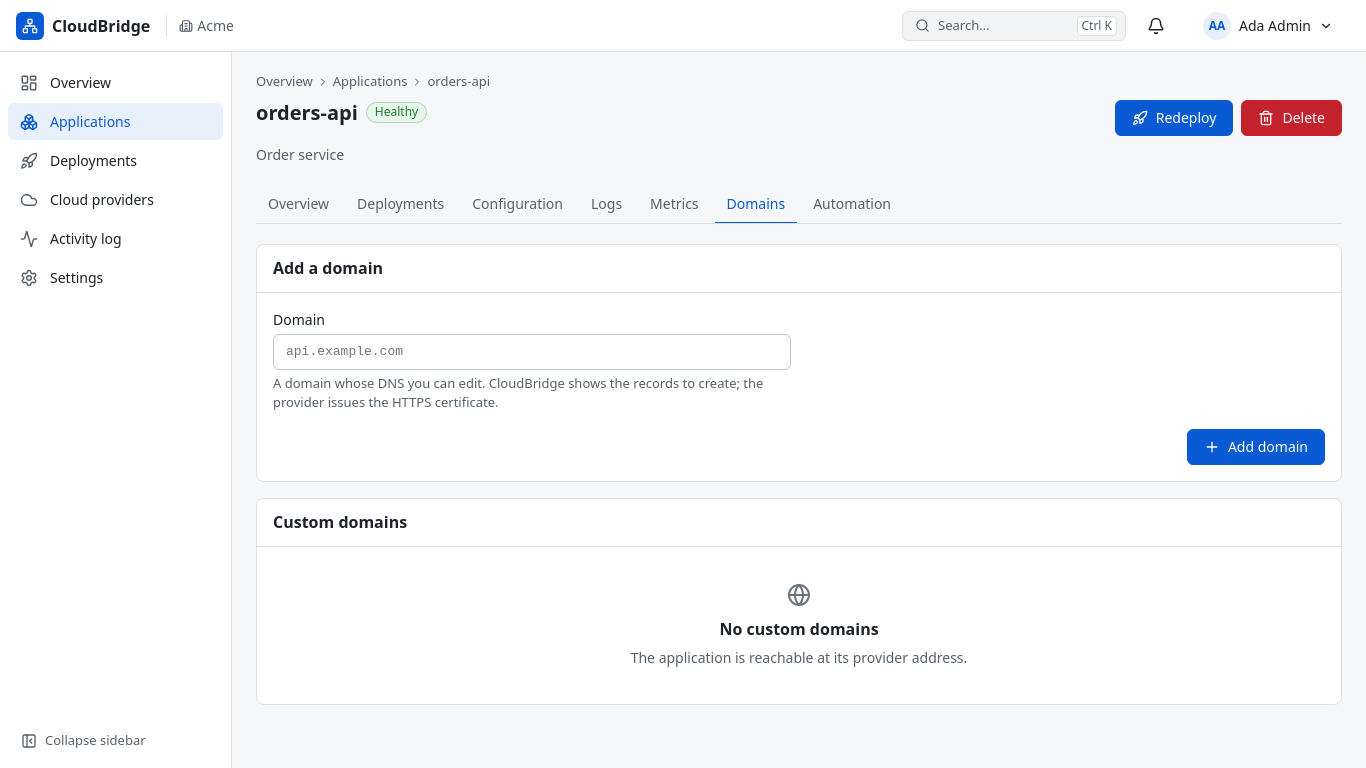
Test: custom domains › adds a domain and lists the DNS records to create
Type "not a domain" into the field labelled "Domain". click: (532, 352)
box: [273,334,791,370]
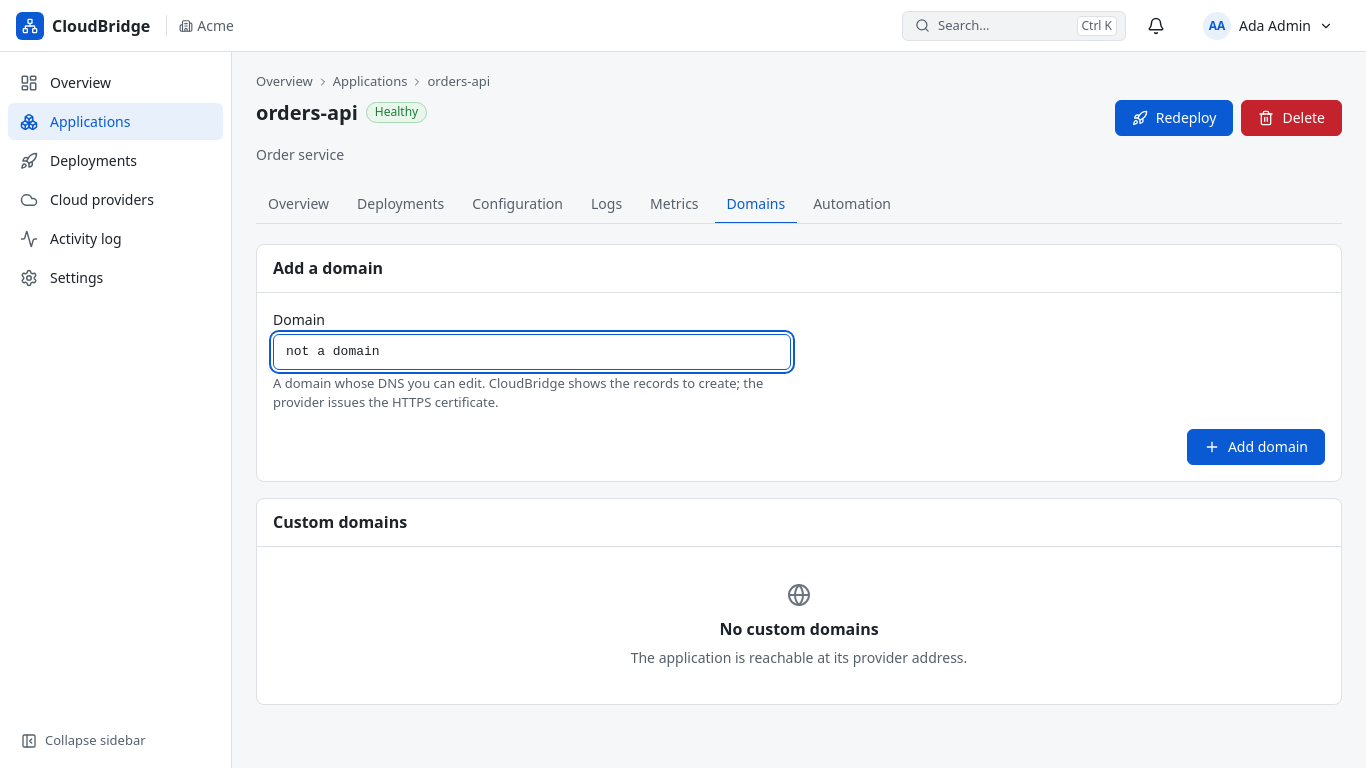
Click the button "Add domain". click: click(1256, 446)
box: [1187,428,1325,464]
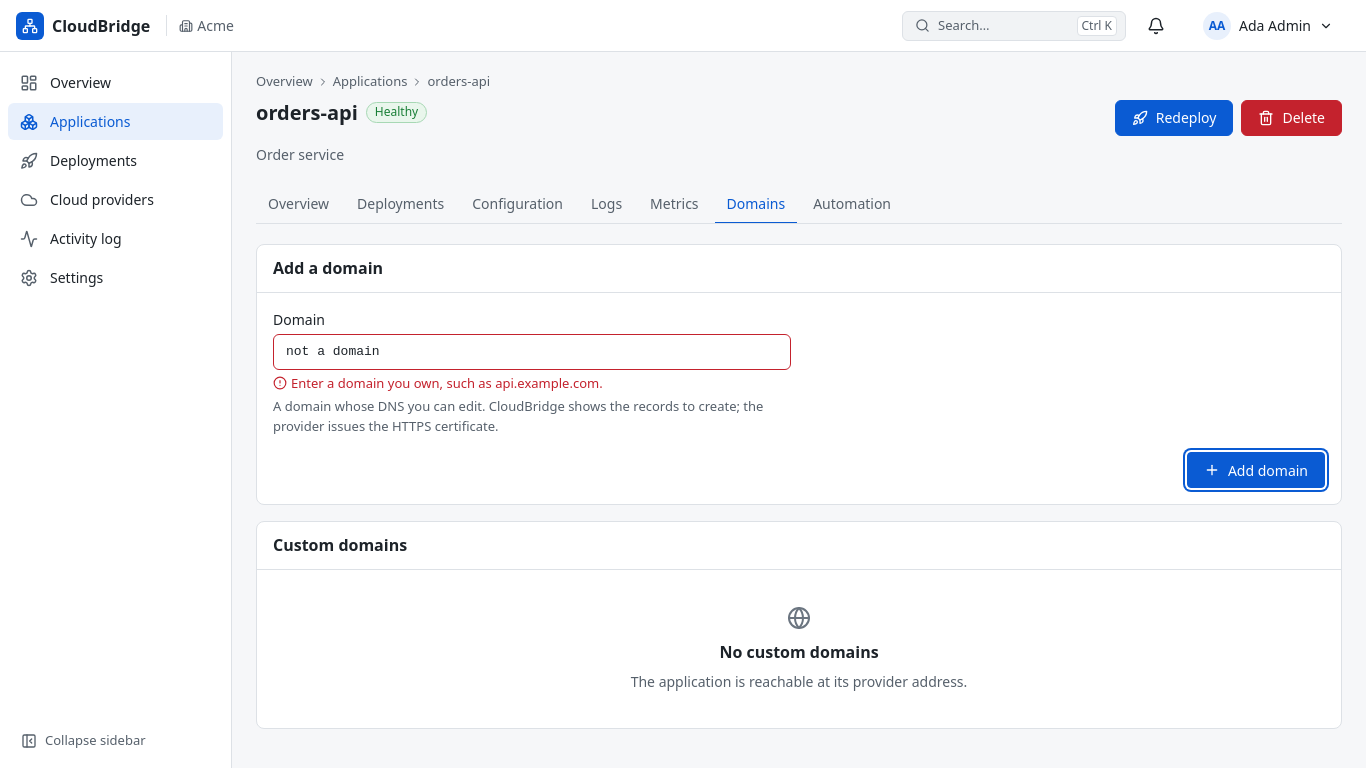
Result: the text "Enter a domain you own, such as api.example.com." is shown at [273,374,603,392]
Replace the text in the field labelled "Domain" with "API.Example.com". click: (532, 352)
box: [273,334,791,370]
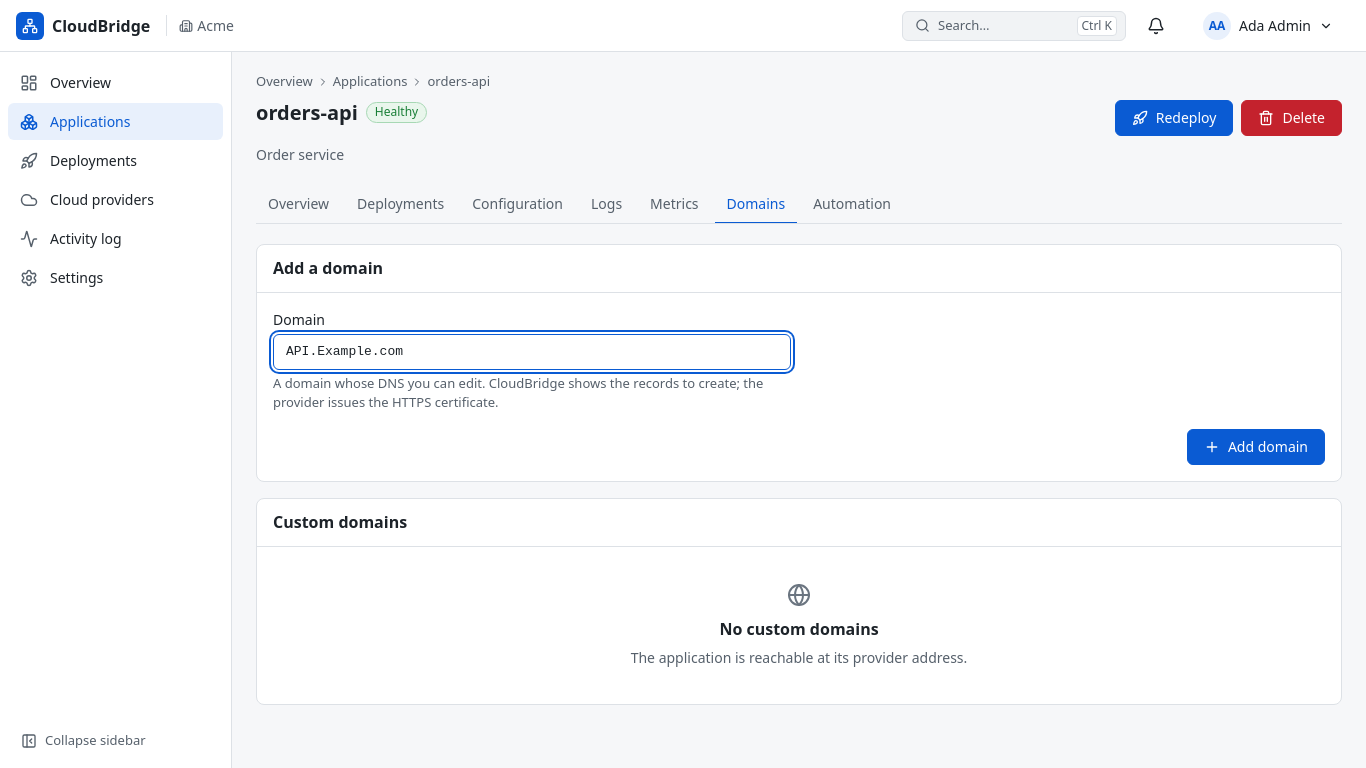
Click the button "Add domain". click: click(1256, 446)
box: [1187,428,1325,464]
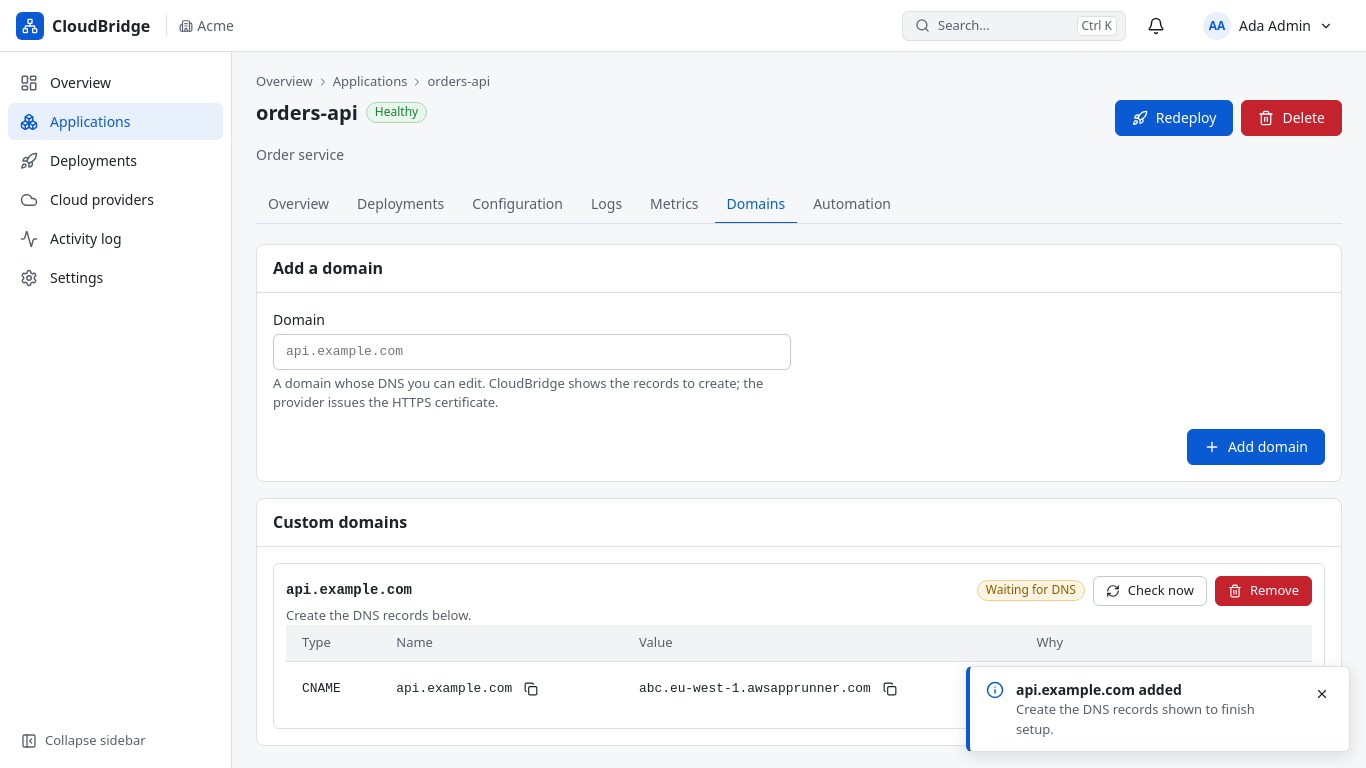
Result: the text "Waiting for DNS" is shown at [977,580,1085,601]
Result: the text "abc.eu-west-1.awsapprunner.com" is shown at [639,679,871,698]
